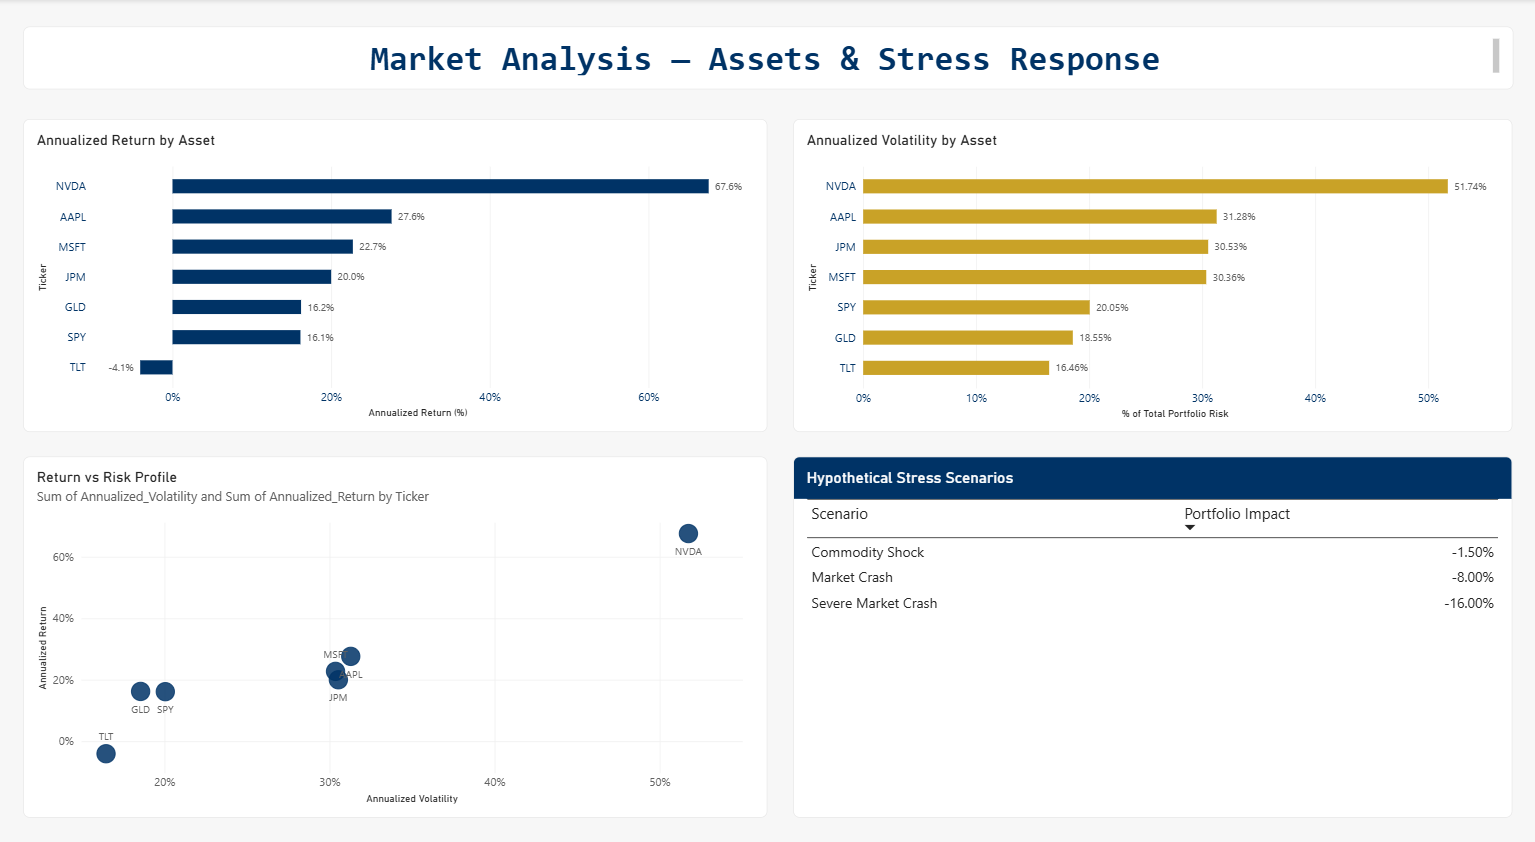

Layout of this report page (visuals, bound fields, positions):
{"tool":"powerbi","page":{"name":"Market Analysis","canvas":[1920,1080],"ordinal":3},"visuals":[{"type":"clusteredBarChart","title":"Annualized Return by Asset","fields":{"Category":["powerbi_asset_performance.Ticker"],"Y":["Sum(powerbi_asset_performance.Annualized_Return)"]},"box":[33.1,150,928,390],"z":1000},{"type":"clusteredBarChart","title":"Annualized Volatility by Asset","fields":{"Category":["powerbi_asset_performance.Ticker"],"Y":["Sum(powerbi_asset_performance.Annualized_Volatility)"]},"box":[992.4,150,896.5,390.7],"z":3000},{"type":"scatterChart","title":"Return vs Risk Profile","fields":{"Category":["powerbi_asset_performance.Ticker"],"X":["Sum(powerbi_asset_performance.Annualized_Volatility)"],"Y":["Sum(powerbi_asset_performance.Annualized_Return)"]},"box":[33.1,570.4,927.9,450],"z":3001},{"type":"tableEx","title":"Hypothetical Stress Scenarios","fields":{"Values":["powerbi_stress_tests.Scenario","Sum(powerbi_stress_tests.Portfolio_Impact)"]},"box":[992.4,570.4,896.5,450],"z":3002},{"type":"textbox","box":[32,34,1858.3,78.3],"z":3003}]}

Visuals, with their boxes in screenshot pixels (x1, y1, x2, y2), scaled from the page's 1920x1080 canvas onto the 1535x842 screenshot:
"Annualized Return by Asset" clusteredBarChart: box(26, 117, 768, 421)
"Annualized Volatility by Asset" clusteredBarChart: box(793, 117, 1510, 422)
"Return vs Risk Profile" scatterChart: box(26, 445, 768, 796)
"Hypothetical Stress Scenarios" tableEx: box(793, 445, 1510, 796)
textbox: box(26, 27, 1511, 88)
